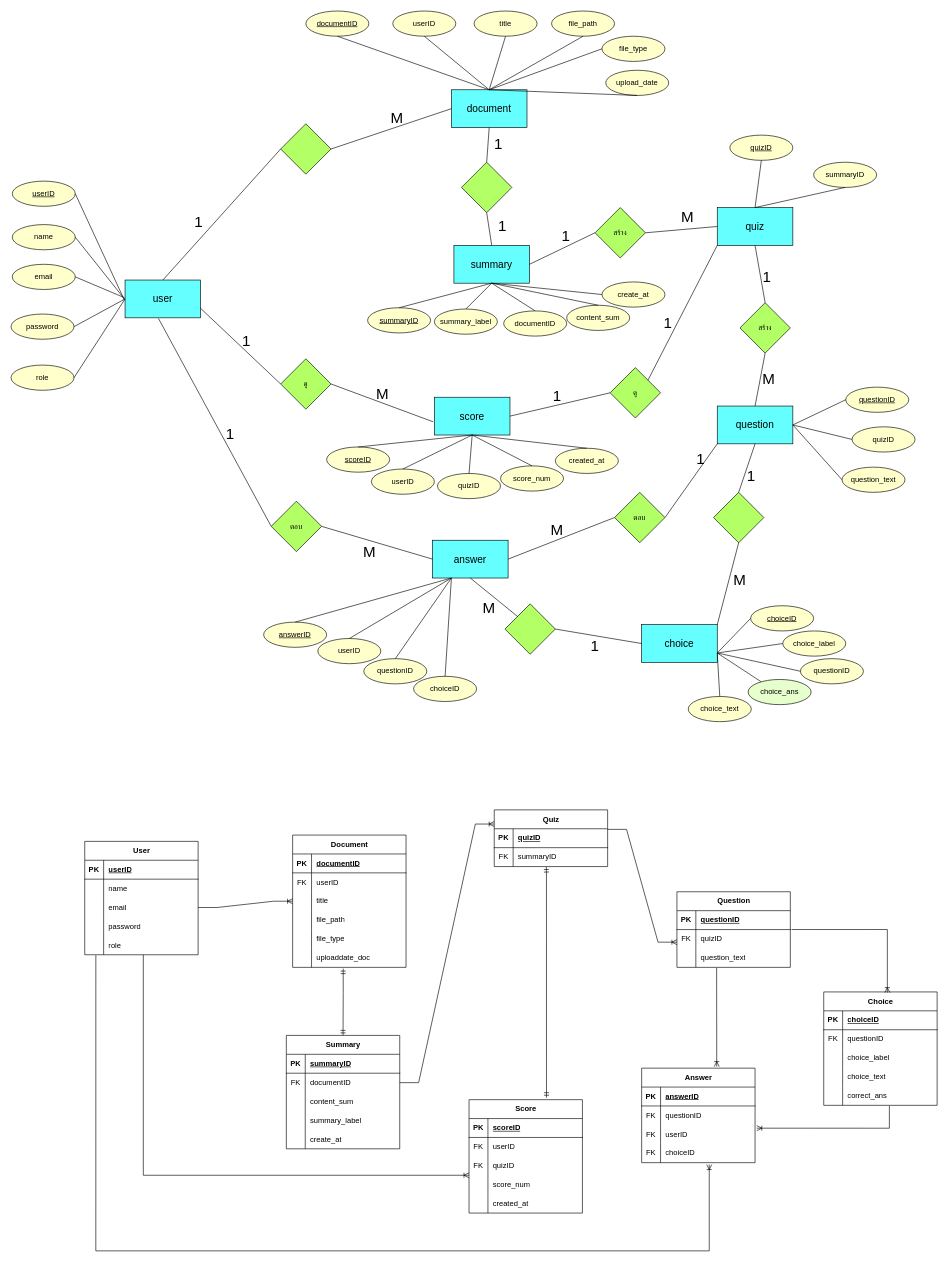
Image size: 948x1267. Some labels were removed from this diagram. Each missing label, with the centre of its shape:
"มี" belongs at (529,628).
"สรุป" belongs at (486,187).
"อัปโหลด" belongs at (305,148).
"เลือก" belongs at (738,517).
